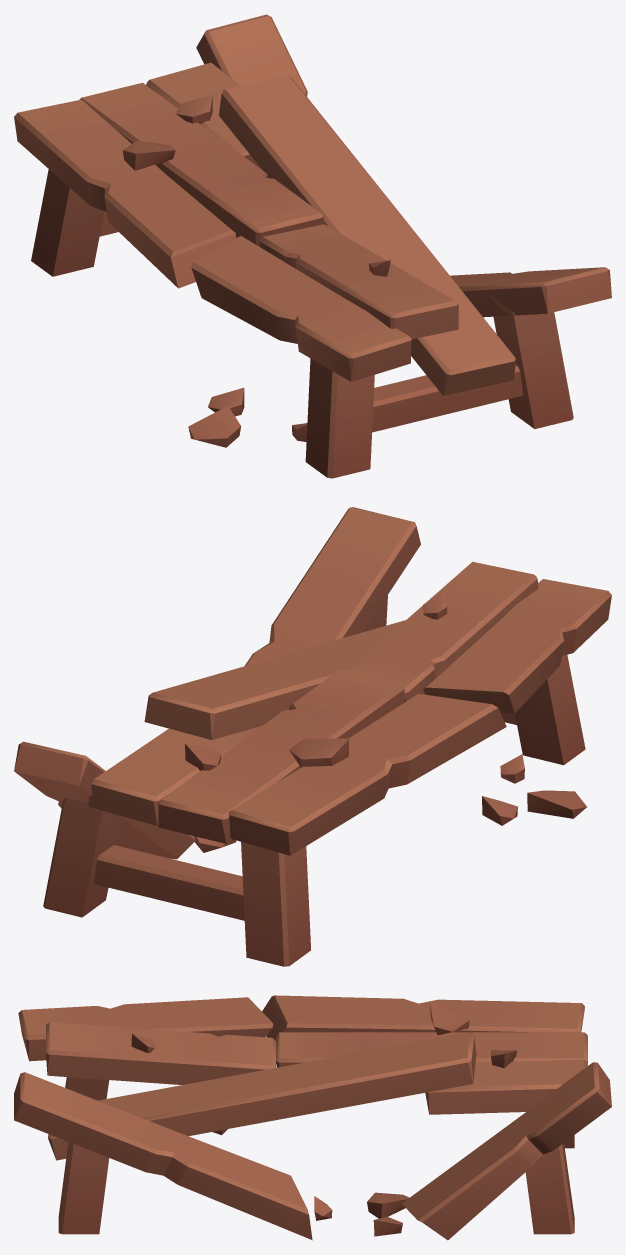
The model's file is kaykit-dungeon-remastered-table-long-broken-gltf.glb.
The picture shows the model from 3 angles, top to bottom: view 1: azimuth 30°, elevation 25°; view 2: azimuth 150°, elevation 25°; view 3: azimuth 270°, elevation 25°; orthographic projection. The views are drawn at different scales.
Visible parts, largest first — view 1: table_long_broken; view 2: table_long_broken; view 3: table_long_broken.
Boxes of the visible parts, box(x1,y1,x2,y2) form: table_long_broken: box(14, 14, 611, 478); table_long_broken: box(14, 507, 611, 966); table_long_broken: box(14, 995, 611, 1240).
Size of the model in its own units: 2.41 by 1.27 by 4.4.
Materials: 1 (1 with a texture image).
